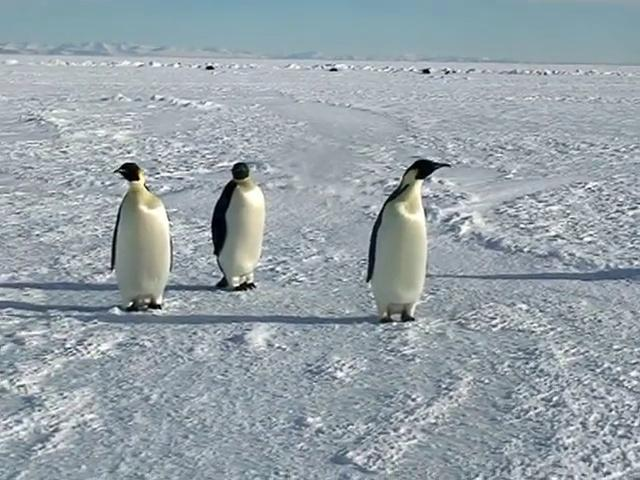animal: (366, 159, 449, 321)
